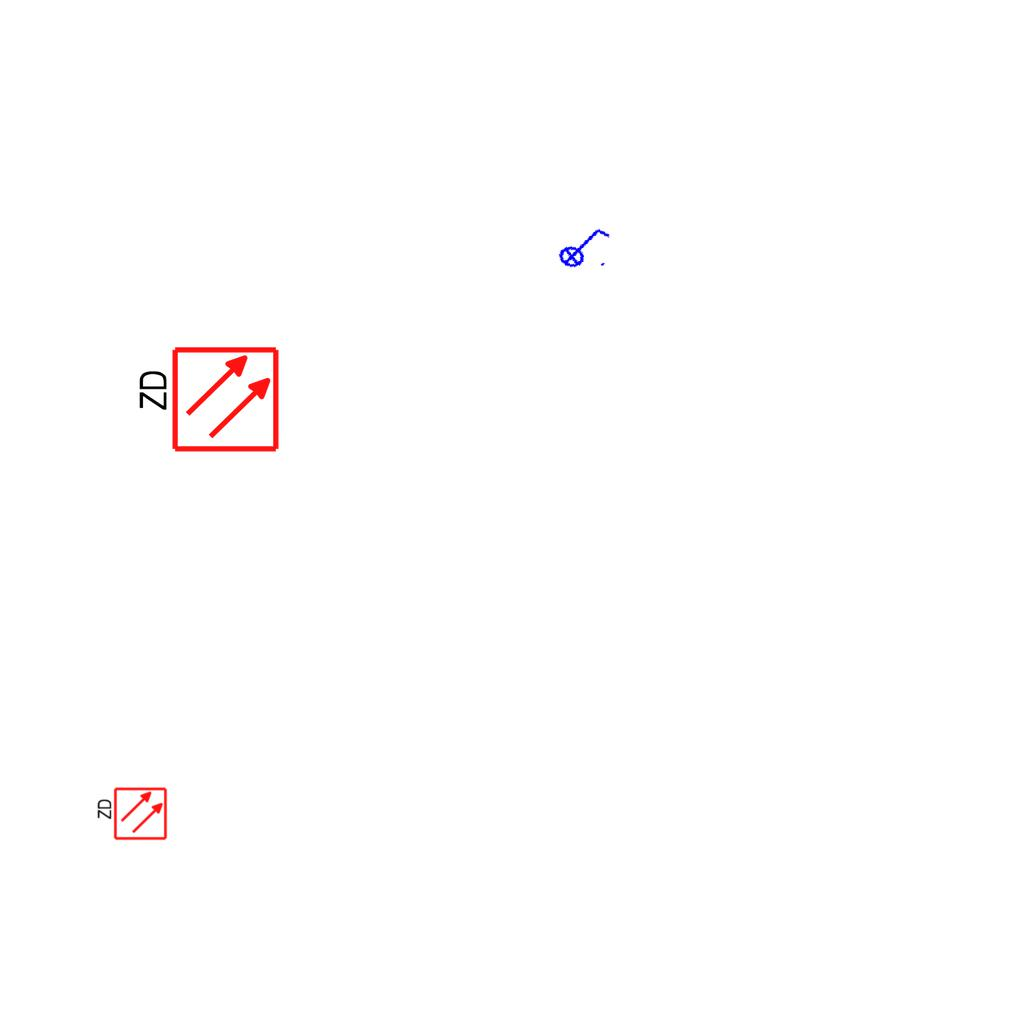Ausschalter_beleuchtet: (550, 216, 616, 276)
ZD_Melder_in_Zwischendecke_mit_Revisionsoeffnung_mind_40_x_40_cm: (132, 344, 281, 458), (94, 786, 168, 843)
